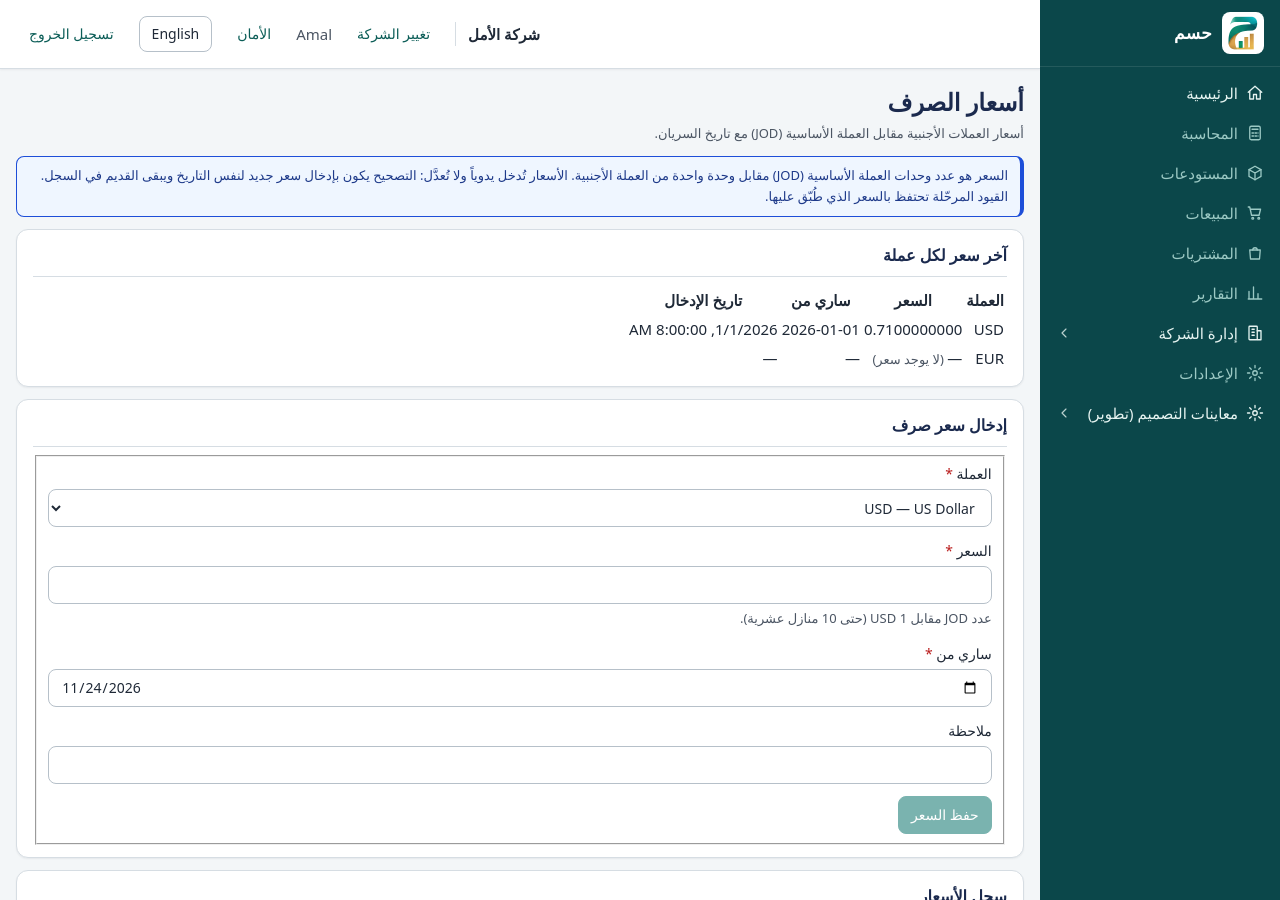
Test: exchange rates screen › shows the concurrent-entry conflict and the translated rule errors
The image size is (1280, 900).
Expected: the element with test id "company-name" is shown, 455,22 -> 540,46
Type "0.8" into the field labelled "السعر *" at (520,585), box 48,566 -> 992,604
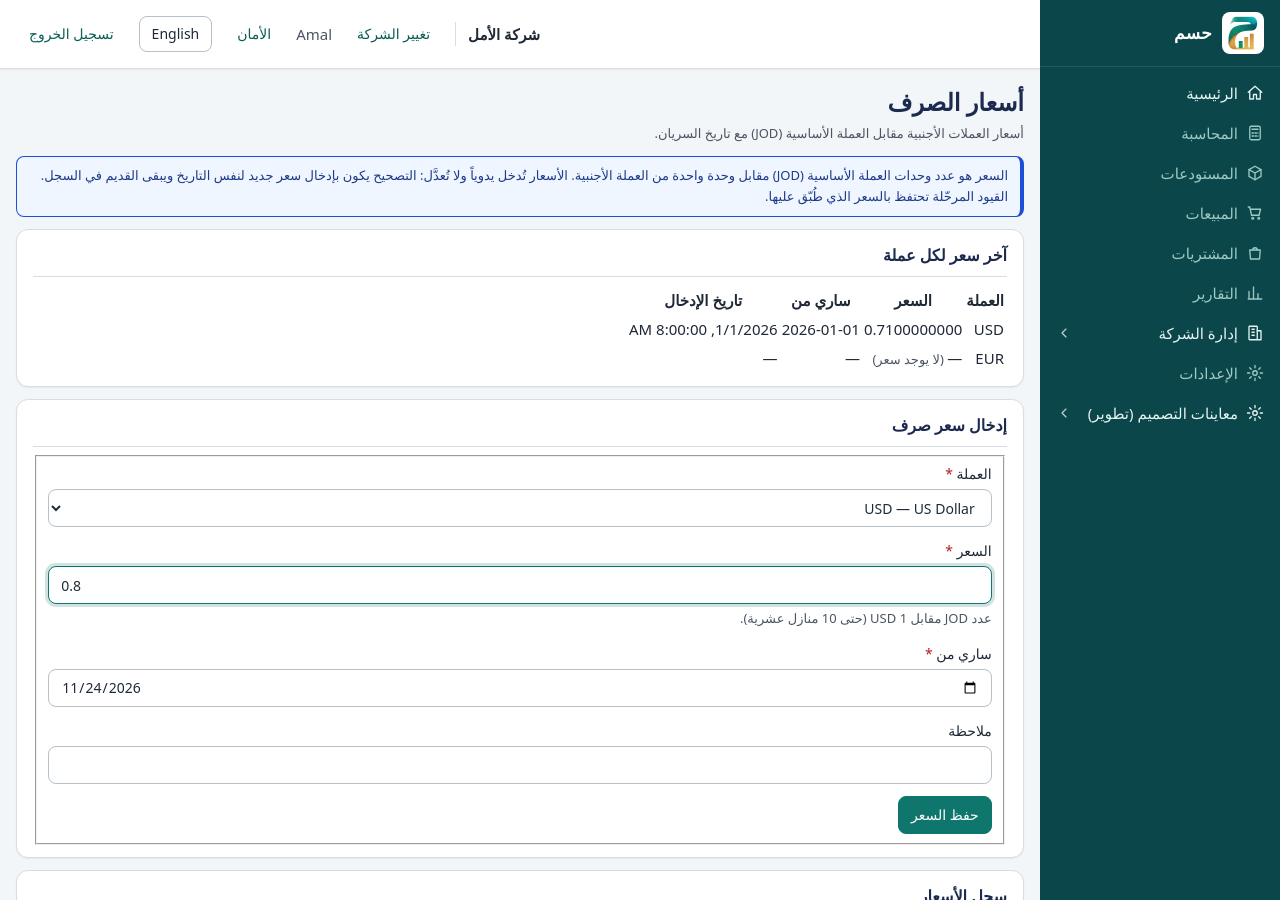
Click the button "حفظ السعر" at (945,815), box 898,796 -> 992,834
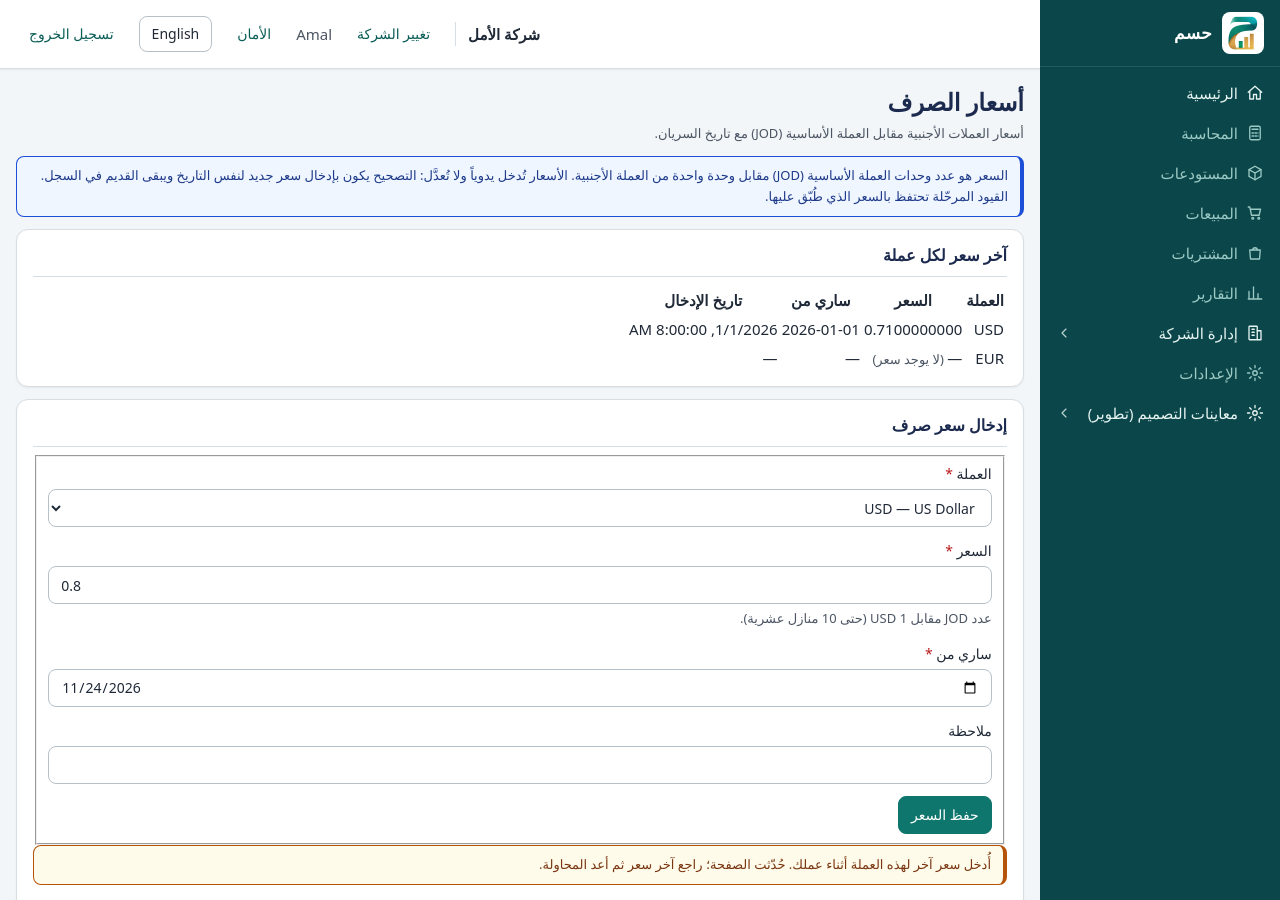
Result: the message with test id "fx-conflict" is shown at 33,845 -> 1007,885
Click the button "حفظ السعر" at (945,815), box 898,796 -> 992,834
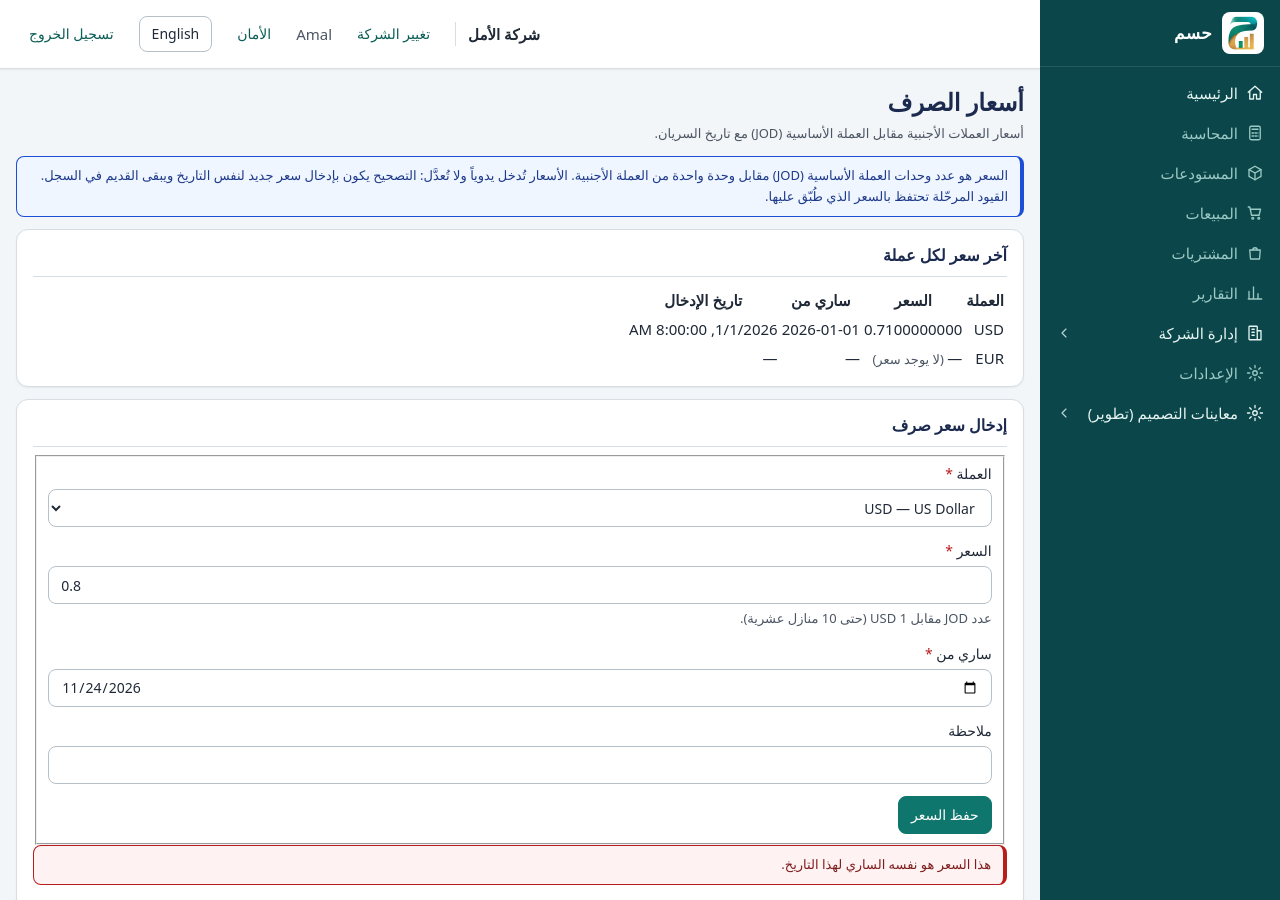
Result: the message with test id "fx-error" reads "هذا السعر هو نفسه الساري لهذا التاريخ." at 781,855 -> 991,873
